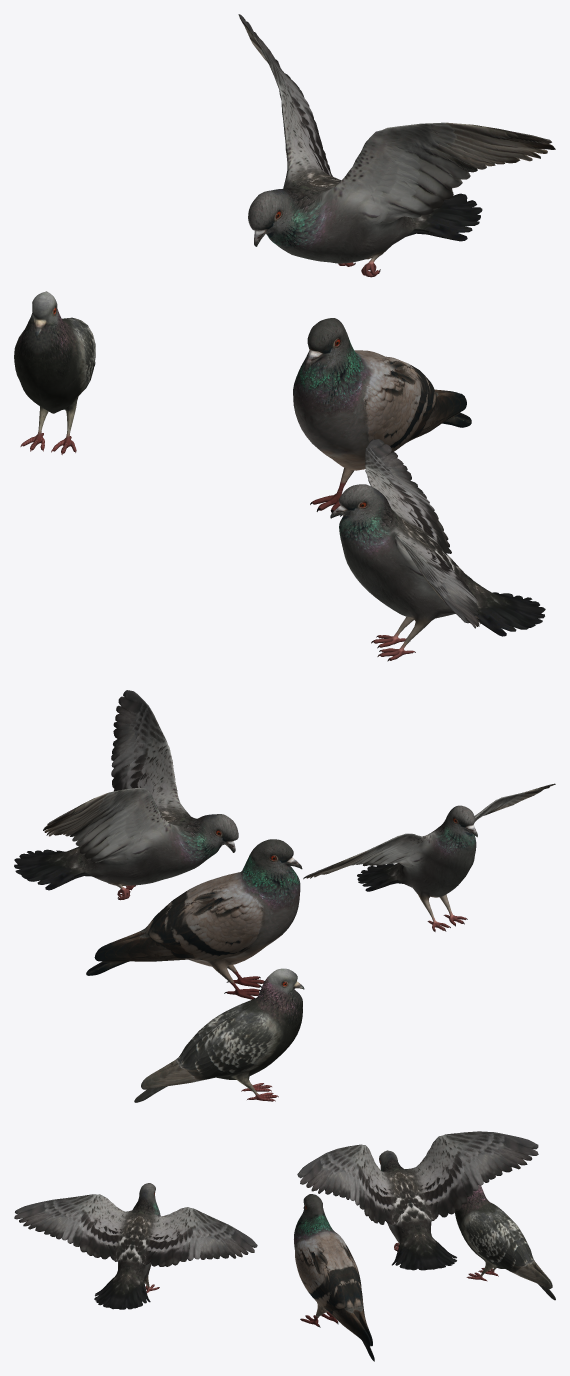
File: pigeon-v1.glb
The picture shows the model from 3 angles, top to bottom: view 1: azimuth 30°, elevation 25°; view 2: azimuth 150°, elevation 25°; view 3: azimuth 270°, elevation 25°; orthographic projection. The views are drawn at different scales.
Parts seen in each view (by area): view 1: pigeon04, pigeon01, pigeon03, pigeon02; view 2: pigeon04, pigeon03, pigeon02, pigeon01; view 3: pigeon04, pigeon01, pigeon03, pigeon02.
Part boxes in pixels (<box>): pigeon04: <box>238,14,555,277</box>; pigeon01: <box>330,439,545,661</box>; pigeon03: <box>293,318,471,516</box>; pigeon02: <box>14,291,95,454</box>; pigeon04: <box>14,690,238,900</box>; pigeon03: <box>86,839,302,999</box>; pigeon02: <box>134,968,304,1102</box>; pigeon01: <box>303,783,555,931</box>; pigeon04: <box>297,1131,538,1270</box>; pigeon01: <box>14,1183,257,1309</box>; pigeon03: <box>294,1194,374,1361</box>; pigeon02: <box>455,1185,555,1300</box>.
Size of the model in its own units: 0.0358 by 0.0289 by 0.0698.
3 materials, 3 textured.
